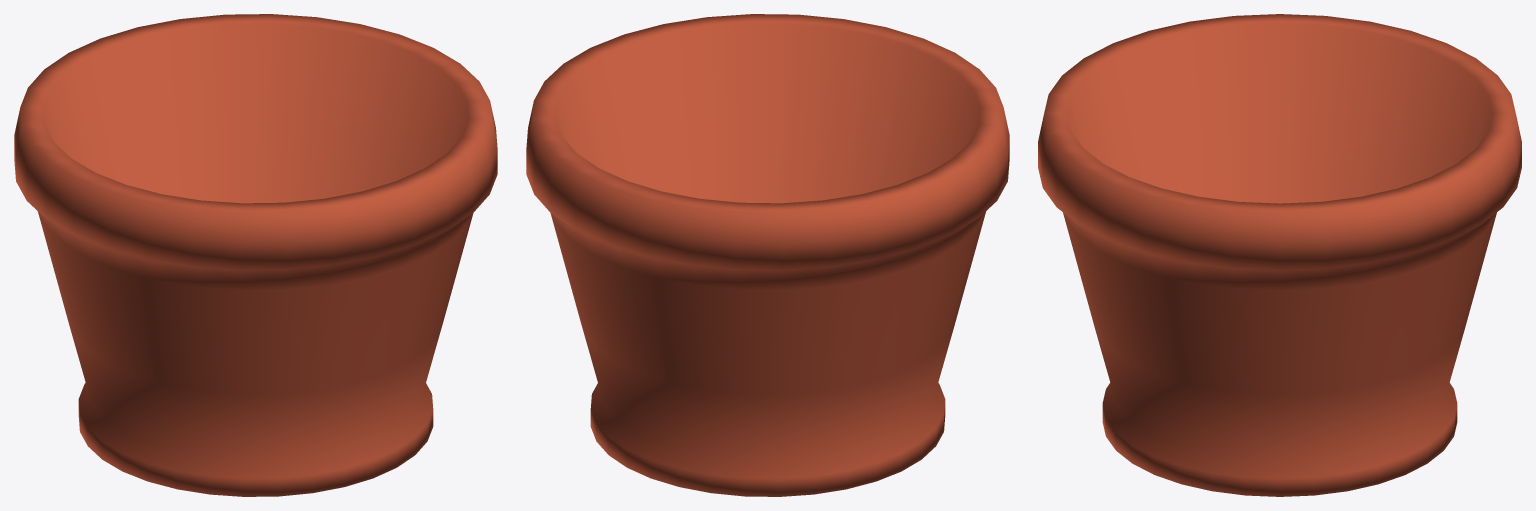
File: Pot.fbx
3 views of the same model, side by side, from view 1: azimuth 30°, elevation 25°; view 2: azimuth 150°, elevation 25°; view 3: azimuth 270°, elevation 25° (orthographic).
Parts seen in each view (by area): view 1: Pot; view 2: Pot; view 3: Pot.
Part boxes in pixels (box(x1,y1,x2,y2)): Pot: box(14, 14, 497, 496); Pot: box(526, 14, 1009, 496); Pot: box(1038, 14, 1521, 496).
Bounding box in the file's own units: 407 × 407 × 286.
